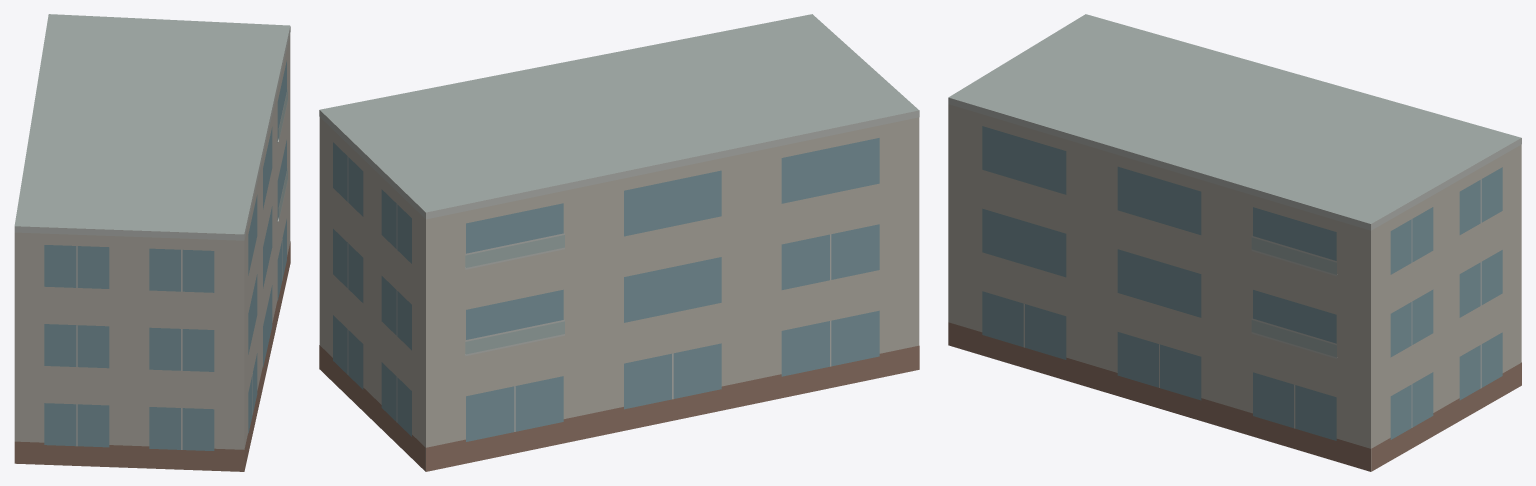
Rendered from survey-upis-33034528.glb.
The picture shows the model from 3 angles, left to right: view 1: azimuth 30°, elevation 25°; view 2: azimuth 150°, elevation 25°; view 3: azimuth 270°, elevation 25°; orthographic projection. The views are drawn at different scales.
Parts seen in each view (by area): view 1: survey-upis-33034528.tmp; view 2: survey-upis-33034528.tmp; view 3: survey-upis-33034528.tmp.
Boxes of the visible parts, bbox=[...] form: survey-upis-33034528.tmp: bbox=[14, 14, 290, 471]; survey-upis-33034528.tmp: bbox=[319, 14, 919, 471]; survey-upis-33034528.tmp: bbox=[948, 14, 1521, 471].
Size of the model in its own units: 16.65 by 9.15 by 19.2.
